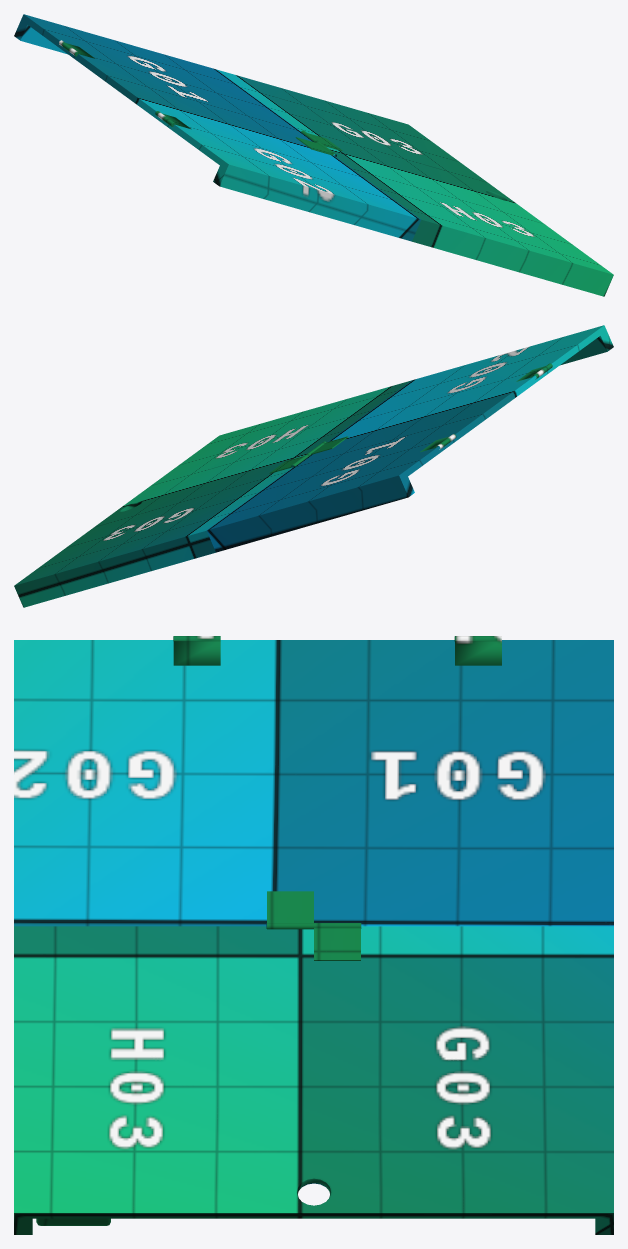
Rendered from PadPanel.fbx.
The picture shows the model from 3 angles, top to bottom: view 1: azimuth 30°, elevation 25°; view 2: azimuth 150°, elevation 25°; view 3: azimuth 270°, elevation 25°; orthographic projection. The views are drawn at different scales.
Visible parts, largest first — view 1: Padhaut_low2, polySurface8734; view 2: Padhaut_low2, polySurface8734; view 3: polySurface8734, Padhaut_low2.
Boxes of the visible parts, x1=… form: Padhaut_low2: x1=14, y1=14, x2=421, y2=241; polySurface8734: x1=216, y1=69, x2=613, y2=296; Padhaut_low2: x1=206, y1=325, x2=613, y2=552; polySurface8734: x1=14, y1=380, x2=411, y2=607; polySurface8734: x1=14, y1=923, x2=613, y2=1234; Padhaut_low2: x1=14, y1=636, x2=613, y2=929.
Size of the model in its own units: 71.13 by 38.93 by 64.12.
